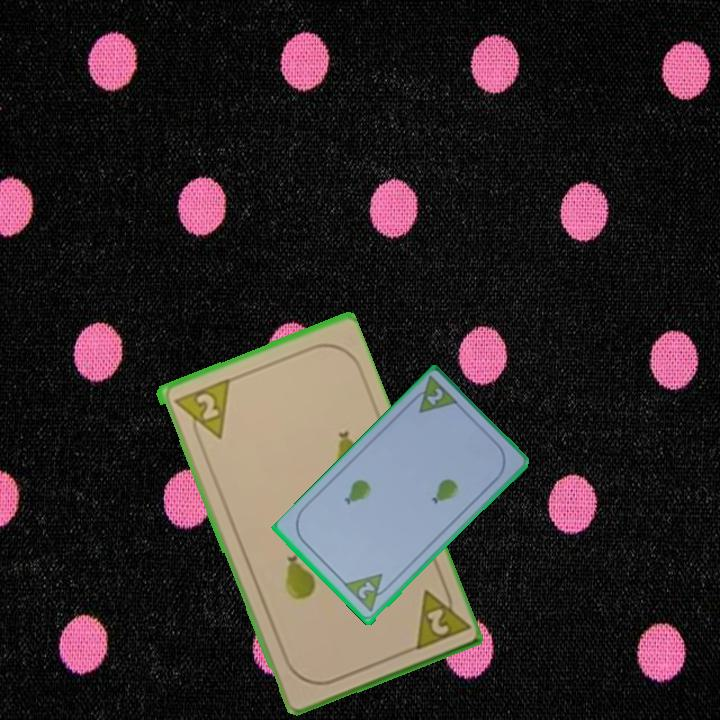2p: (168, 375, 232, 448), (341, 570, 395, 616), (422, 604, 452, 638), (423, 385, 446, 409)
